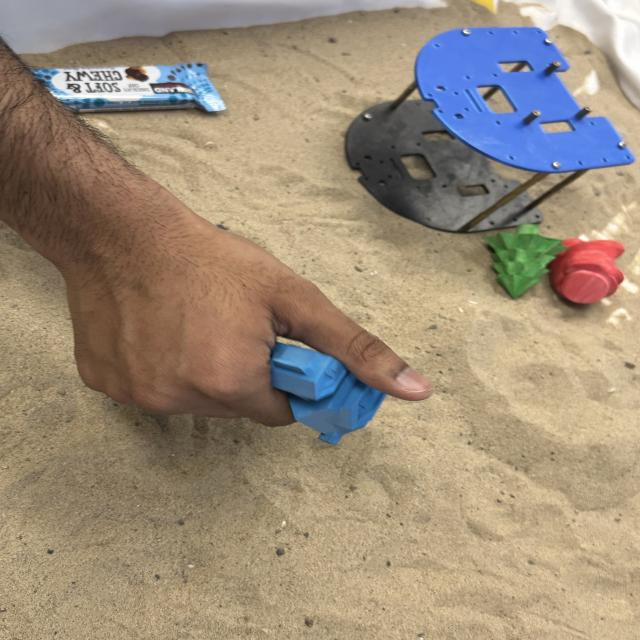fire: (547, 238, 627, 305)
house: (273, 336, 387, 445)
tree: (481, 223, 568, 299)
